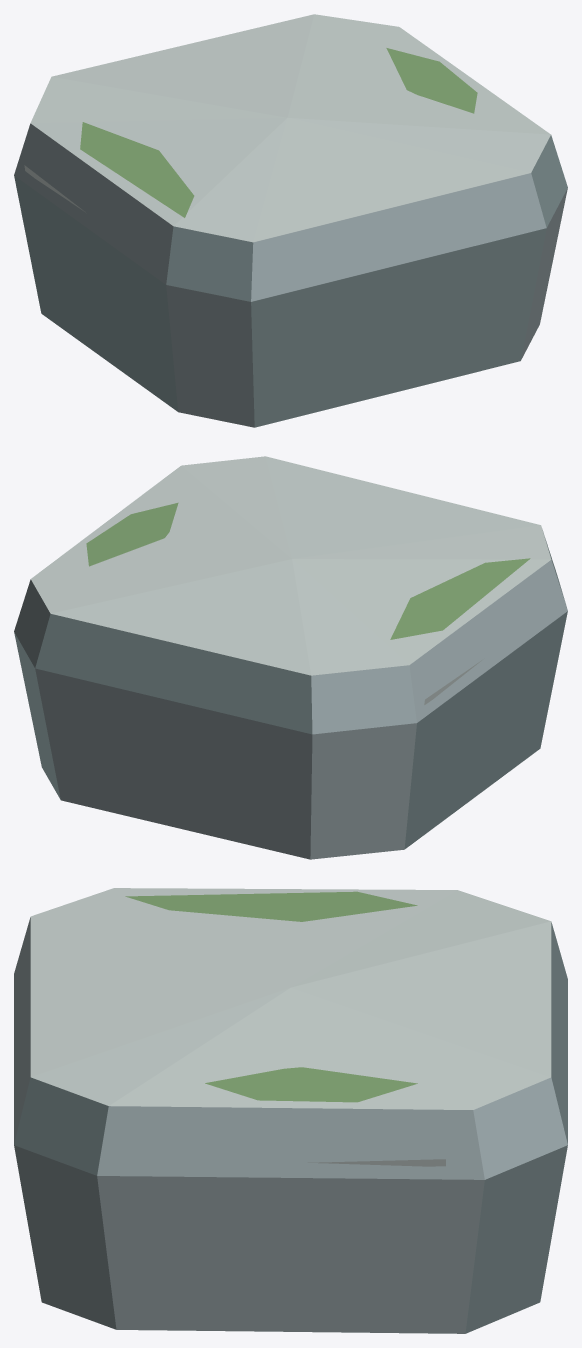
Rendered from stream-stone.glb.
3 views of the same model, one above another, from view 1: azimuth 30°, elevation 25°; view 2: azimuth 150°, elevation 25°; view 3: azimuth 270°, elevation 25° (orthographic). The views are drawn at different scales.
Visible parts, largest first — view 1: Water worn granite slab, Moss at stream edge, Moss at stream edge.001; view 2: Water worn granite slab, Moss at stream edge, Moss at stream edge.001; view 3: Water worn granite slab, Moss at stream edge, Moss at stream edge.001, Fine mineral seam.001.
Part boxes in pixels (x1,y1,x2,y2): Water worn granite slab: [14, 14, 567, 427]; Moss at stream edge: [80, 122, 194, 217]; Moss at stream edge.001: [386, 48, 477, 113]; Water worn granite slab: [14, 456, 567, 859]; Moss at stream edge: [390, 558, 530, 639]; Moss at stream edge.001: [86, 502, 178, 566]; Water worn granite slab: [14, 888, 567, 1333]; Moss at stream edge: [125, 891, 417, 921]; Moss at stream edge.001: [205, 1067, 417, 1102]; Fine mineral seam.001: [308, 1159, 445, 1166].
Bounding box in the file's own units: 1 × 0.48 × 1.
